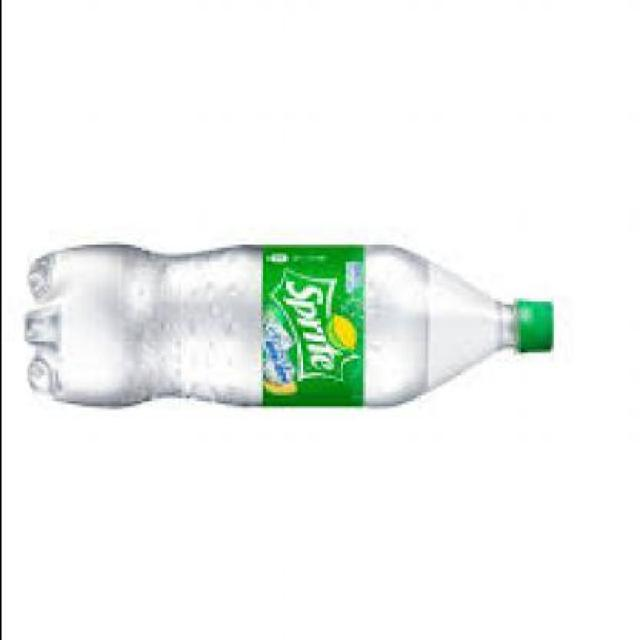PLASTIC: (25, 244, 523, 406), (265, 242, 366, 404), (518, 301, 552, 352)
